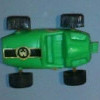verde_oeste: (3, 15, 96, 85)
